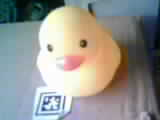duck: (27, 5, 127, 103)
